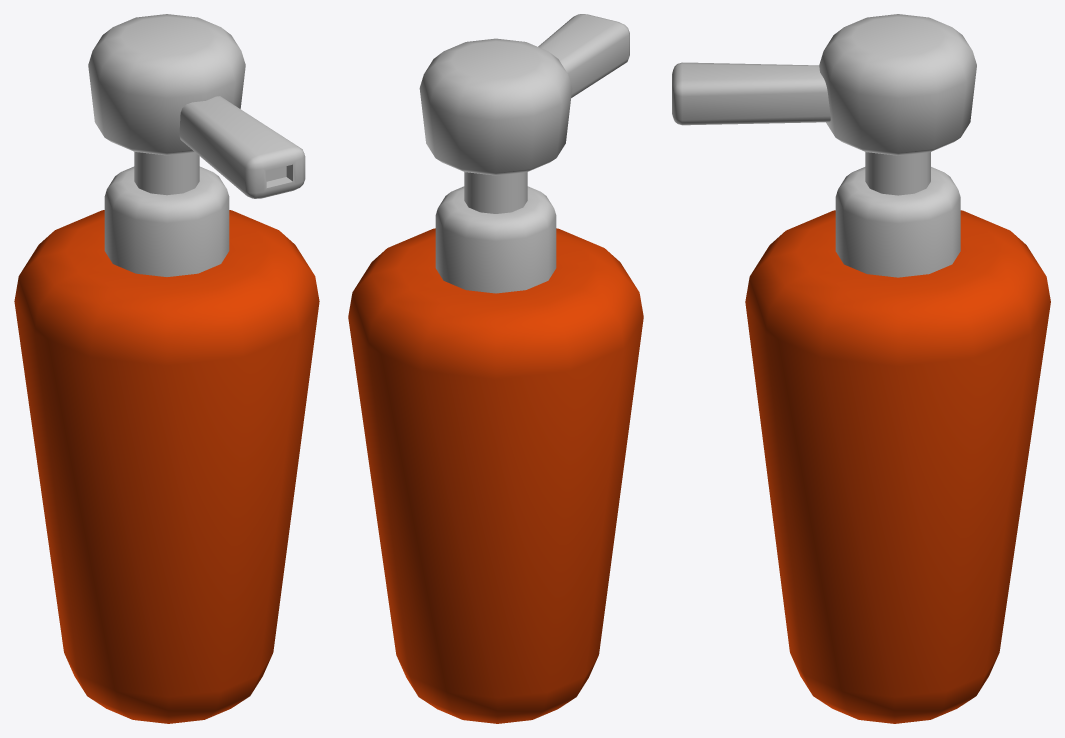
File: Fluid Soap_1V.fbx
The picture shows the model from 3 angles, left to right: view 1: azimuth 30°, elevation 25°; view 2: azimuth 150°, elevation 25°; view 3: azimuth 270°, elevation 25°; orthographic projection. The views are drawn at different scales.
Parts seen in each view (by area): view 1: Fluid Soap_1V; view 2: Fluid Soap_1V; view 3: Fluid Soap_1V.
Part boxes in pixels (x1,y1,x2,y2): Fluid Soap_1V: [14, 14, 319, 723]; Fluid Soap_1V: [348, 14, 643, 723]; Fluid Soap_1V: [672, 14, 1050, 723].
Bounding box in the file's own units: 0.0706 × 0.1689 × 0.0875.
